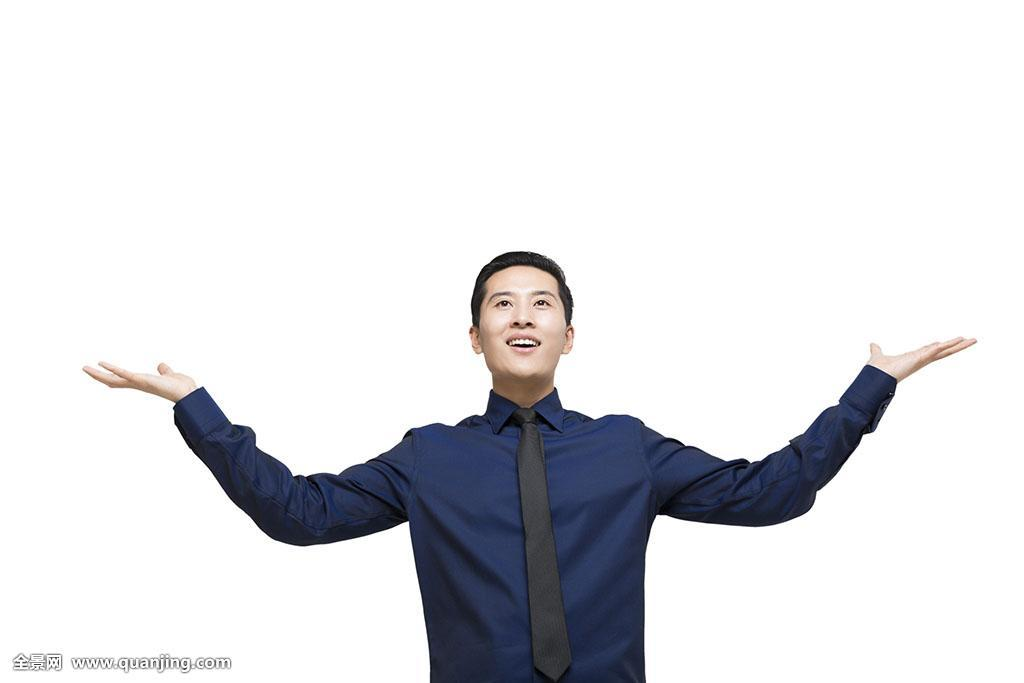handsup: (81, 246, 981, 674)
